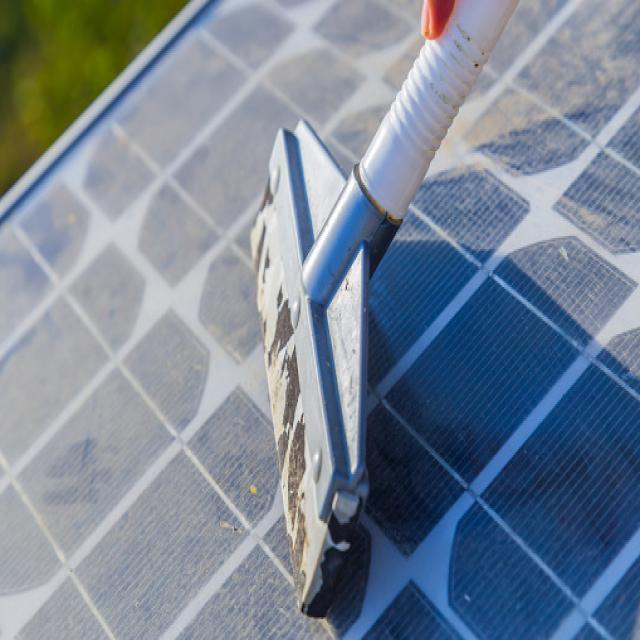Surface Contaminant: (0, 0, 417, 639), (390, 0, 639, 383)
